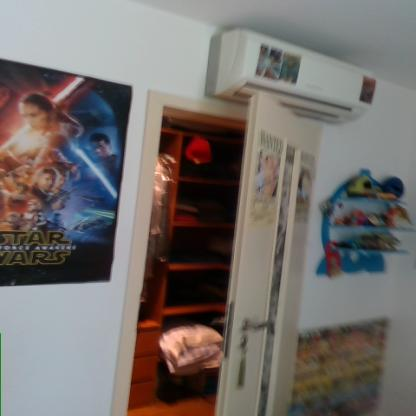semi: (83, 115, 332, 416)
